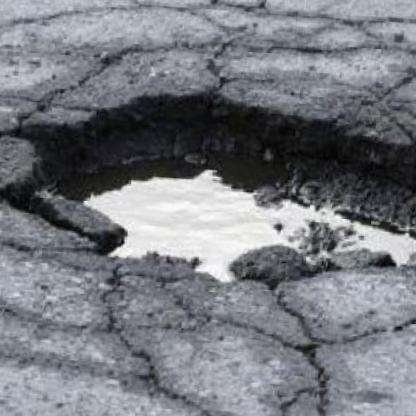pothole: (0, 64, 416, 311)
